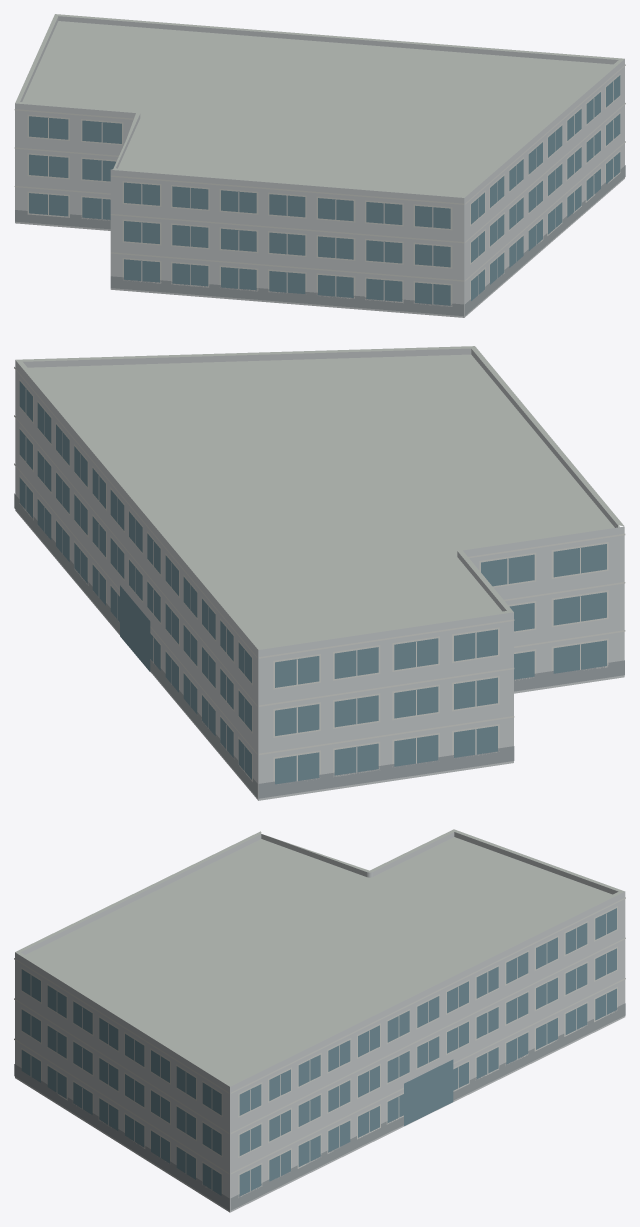
Rendered from public-8e51e7d3-e47b-4a16-97a9-7342af942894.glb.
3 renders of one model, top to bottom at view 1: azimuth 30°, elevation 25°; view 2: azimuth 150°, elevation 25°; view 3: azimuth 270°, elevation 25°, orthographic. The views are drawn at different scales.
Parts seen in each view (by area): view 1: public-8e51e7d3-e47b-4a16-97a9-7342af942894; view 2: public-8e51e7d3-e47b-4a16-97a9-7342af942894; view 3: public-8e51e7d3-e47b-4a16-97a9-7342af942894.
Boxes of the visible parts, box(x1,y1,x2,y2) form: public-8e51e7d3-e47b-4a16-97a9-7342af942894: box(14, 14, 625, 317); public-8e51e7d3-e47b-4a16-97a9-7342af942894: box(14, 346, 625, 800); public-8e51e7d3-e47b-4a16-97a9-7342af942894: box(14, 829, 625, 1212).
Bounding box in the file's own units: 40.29 × 9.15 × 40.33.
